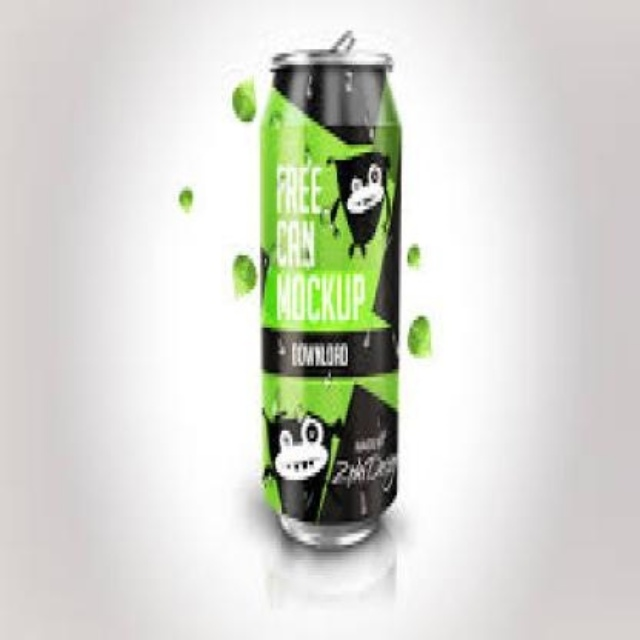trash: (262, 32, 400, 546)
